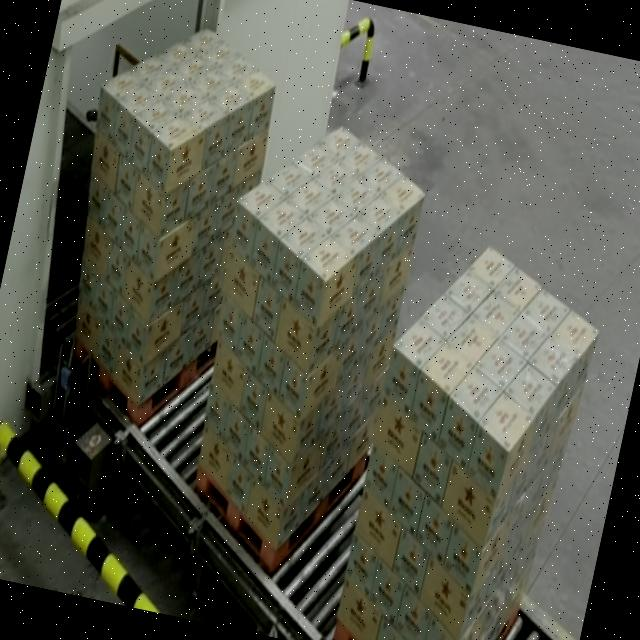pallet: (168, 103, 452, 598), (30, 0, 299, 451), (322, 224, 610, 640)
